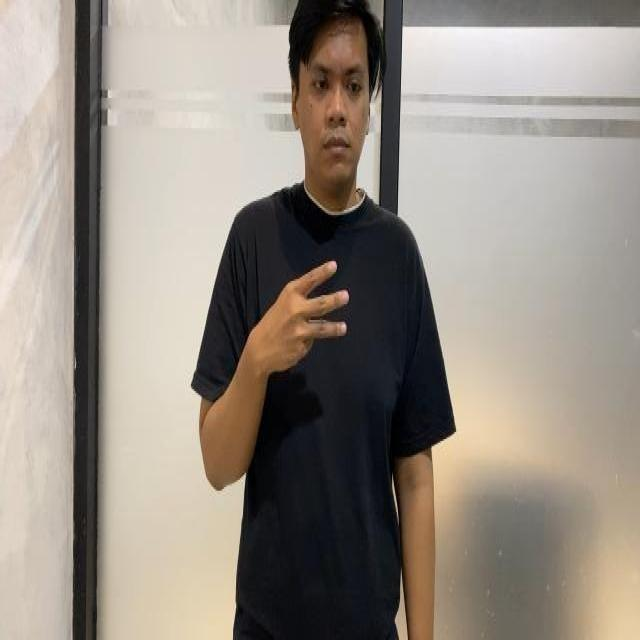E: (239, 250, 365, 388)
